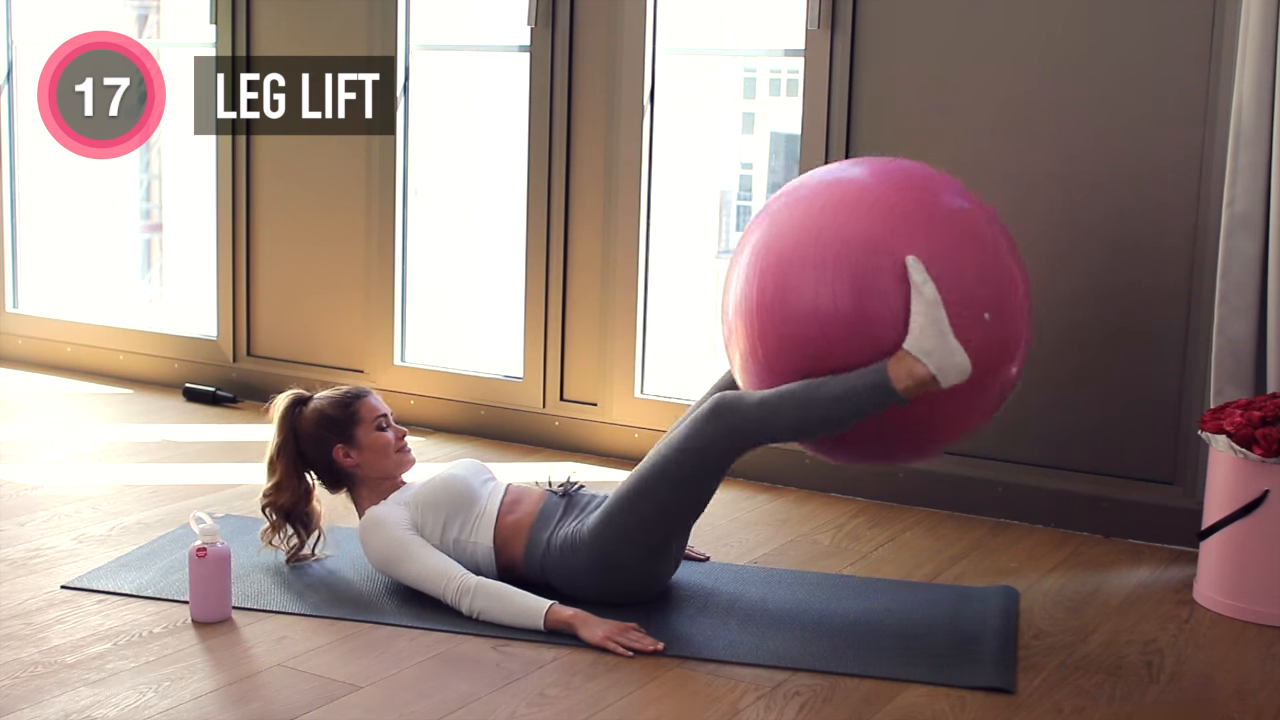yogaball: (714, 153, 1034, 470)
